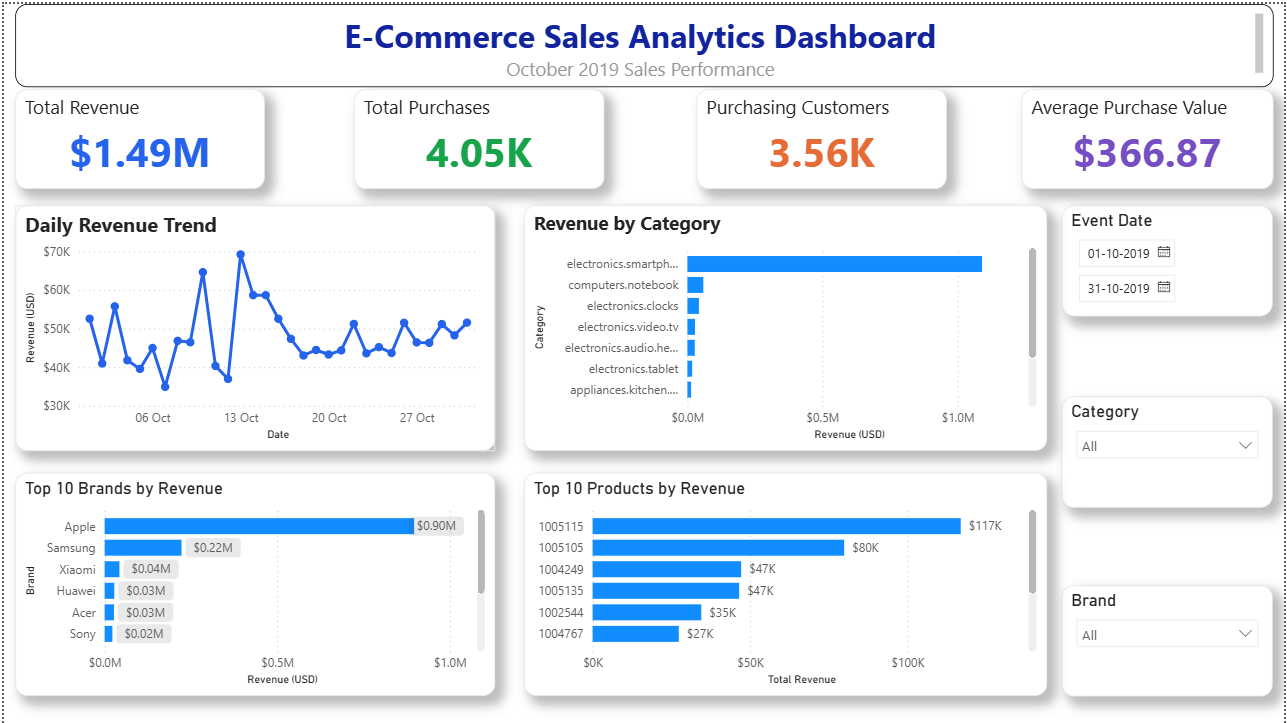

What the dashboard file says about the page in this screenshot:
{"tool":"powerbi","page":{"name":"Executive Dashboard","canvas":[1280,720],"ordinal":0},"visuals":[{"type":"textbox","box":[11,0,1258.3,83.2],"z":0},{"type":"slicer","title":"Event Date","fields":{"Values":["events.event_date"]},"box":[1057.8,201.8,211.6,111.3],"z":1000},{"type":"slicer","title":"Category","fields":{"Values":["categories.category_code"]},"box":[1057.8,392.5,211.6,111.3],"z":2000},{"type":"slicer","title":"Brand","fields":{"Values":["products.brand"]},"box":[1057.8,580.8,211.6,111.3],"z":3000},{"type":"card","title":"Total Revenue","fields":{"Values":["Measures (2).Total Revenue"]},"box":[11,84.4,249.5,100.3],"z":4000},{"type":"card","title":"Total Purchases","fields":{"Values":["Measures (2).Total Purchases"]},"box":[349.7,84.4,250.7,100.3],"z":5000},{"type":"card","title":"Purchasing Customers","fields":{"Values":["Measures (2).Total Purchasing Customers"]},"box":[692.1,84.4,250.7,100.3],"z":6000},{"type":"card","title":"Average Purchase Value","fields":{"Values":["Measures (2).Average Purchase Value"]},"box":[1017.4,84.4,251.9,100.3],"z":7000},{"type":"lineChart","title":"Daily Revenue Trend","fields":{"Category":["events.event_date"],"Y":["Measures (2).Total Revenue"]},"box":[11.3,201.8,480.2,245.7],"z":8000},{"type":"clusteredBarChart","title":"Revenue by Category","fields":{"Category":["categories.category_code"],"Y":["Measures (2).Total Revenue"]},"box":[519.6,201.8,523,245.7],"z":9000},{"type":"clusteredBarChart","title":"Top 10 Brands by Revenue","fields":{"Category":["products.brand"],"Y":["Measures (2).Total Revenue"]},"box":[11.3,468.9,480.2,223.2],"z":10000},{"type":"clusteredBarChart","title":"Top 10 Products by Revenue","fields":{"Category":["products.product_id"],"Y":["Measures (2).Total Revenue"]},"box":[519.6,468.9,523,223.2],"z":11000}]}

Visuals, with their boxes in screenshot pixels (x1, y1, x2, y2), scaled from the page's 1280x720 canvas onto the 1287x723 screenshot:
textbox: detection(11, 0, 1276, 84)
"Event Date" slicer: detection(1064, 203, 1276, 314)
"Category" slicer: detection(1064, 394, 1276, 506)
"Brand" slicer: detection(1064, 583, 1276, 695)
"Total Revenue" card: detection(11, 85, 262, 185)
"Total Purchases" card: detection(352, 85, 604, 185)
"Purchasing Customers" card: detection(696, 85, 948, 185)
"Average Purchase Value" card: detection(1023, 85, 1276, 185)
"Daily Revenue Trend" lineChart: detection(11, 203, 494, 449)
"Revenue by Category" clusteredBarChart: detection(522, 203, 1048, 449)
"Top 10 Brands by Revenue" clusteredBarChart: detection(11, 471, 494, 695)
"Top 10 Products by Revenue" clusteredBarChart: detection(522, 471, 1048, 695)
